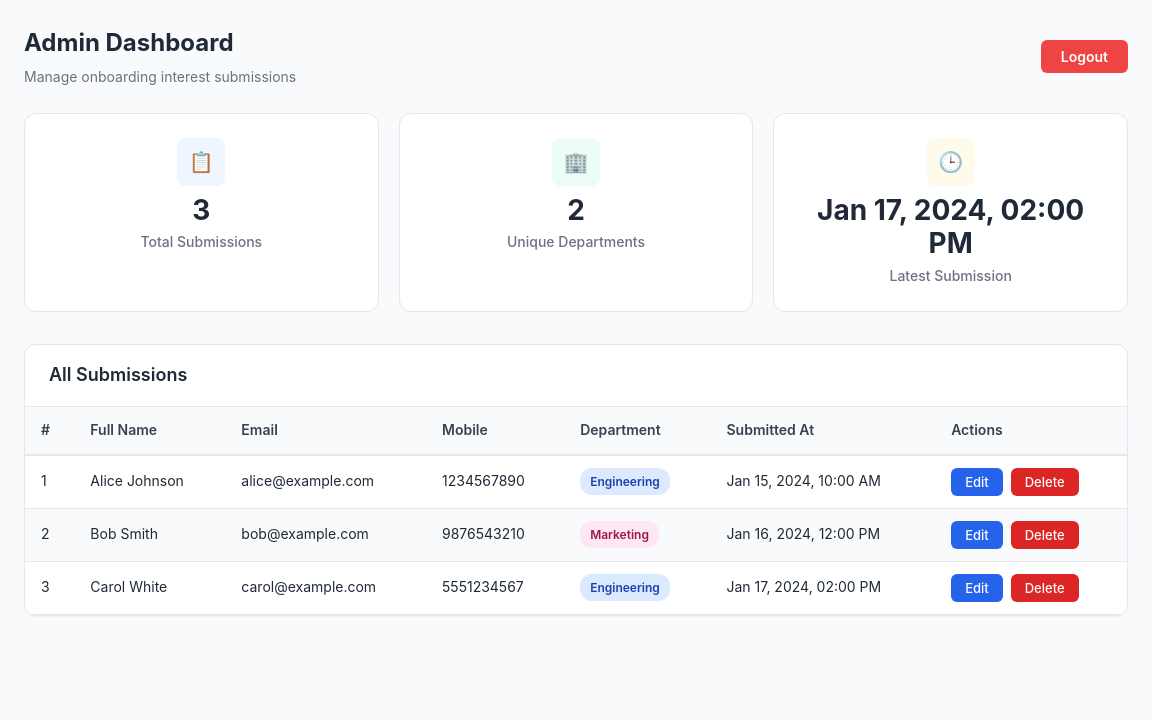
Test case: AdminDashboard › edit functionality › opens edit modal with correct data for second submission
This screenshot has width=1152, height=720.
Click the button "Edit" in the row of "Bob Smith" at (977, 534), box [951,520,1003,548]
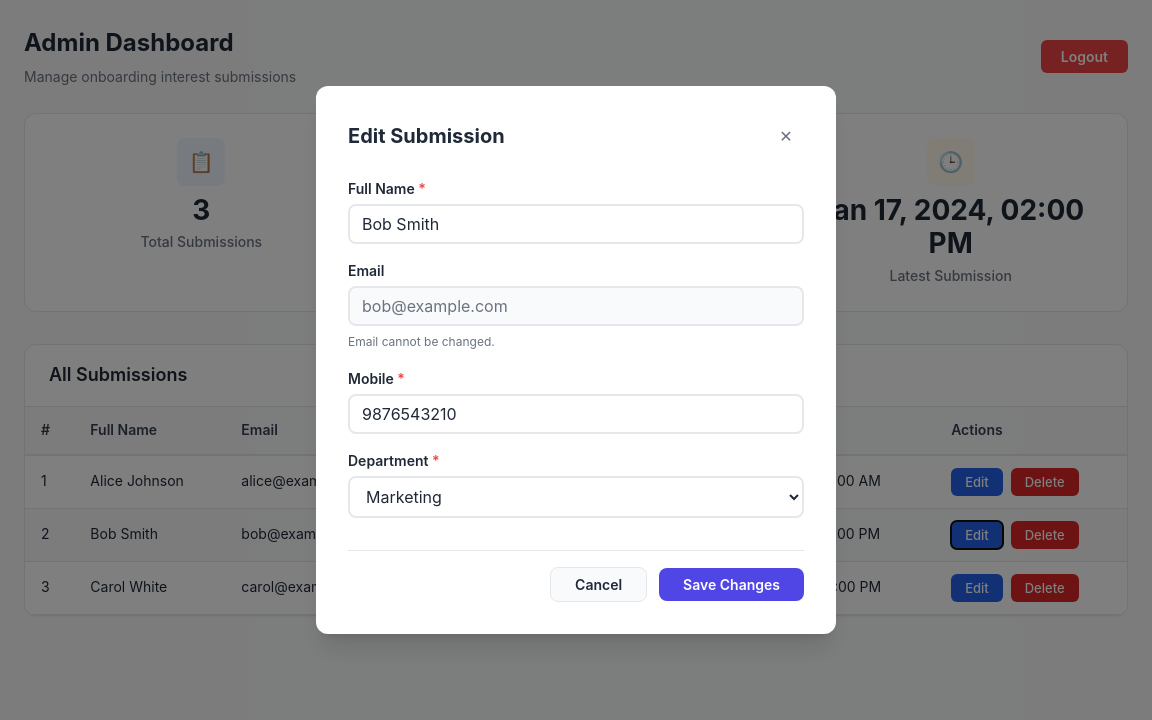
Expected: the heading "Edit Submission" is shown, [348,120,505,152]
Expected: the field showing "Bob Smith" is shown, [348,204,804,244]
